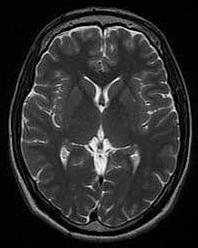Normal_Brain: (1, 10, 193, 248)
